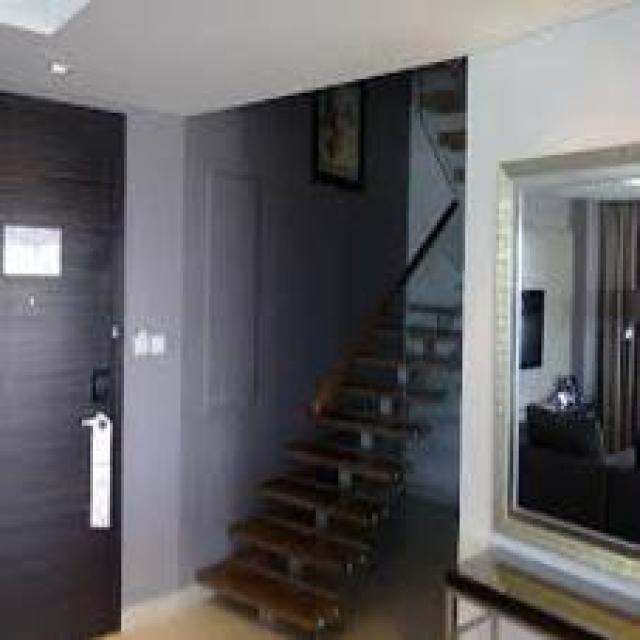stair: (184, 440, 384, 629)
